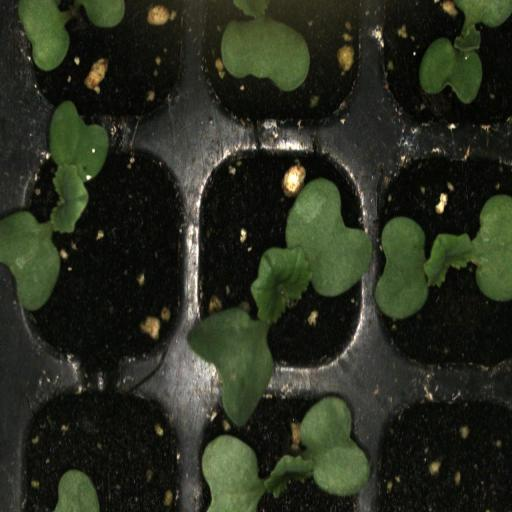Folha: (220, 0, 310, 92), (54, 469, 100, 512)
Germinacao: (191, 137, 370, 388), (11, 137, 191, 384), (371, 134, 512, 383), (188, 389, 369, 512), (373, 0, 512, 133)
